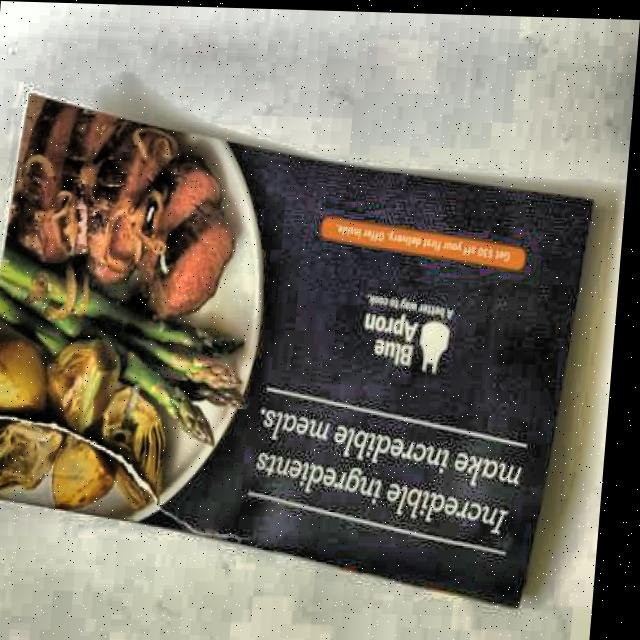paper: (0, 89, 601, 611)
